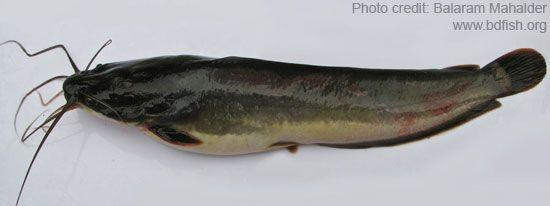Catfish: (1, 22, 546, 206)
